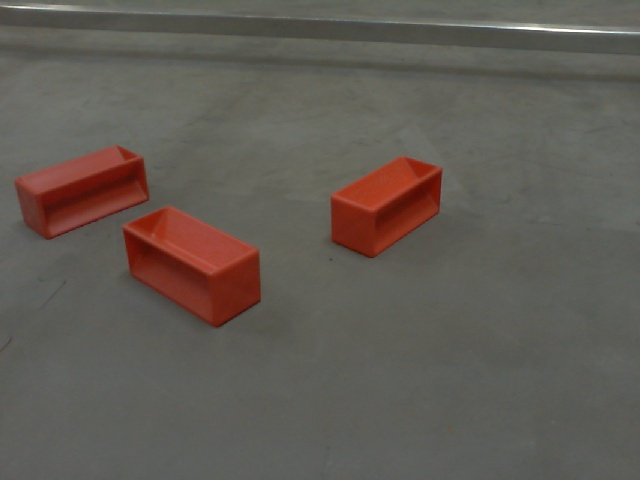RedSample: (120, 203, 263, 332), (15, 141, 150, 239), (329, 153, 443, 259)
